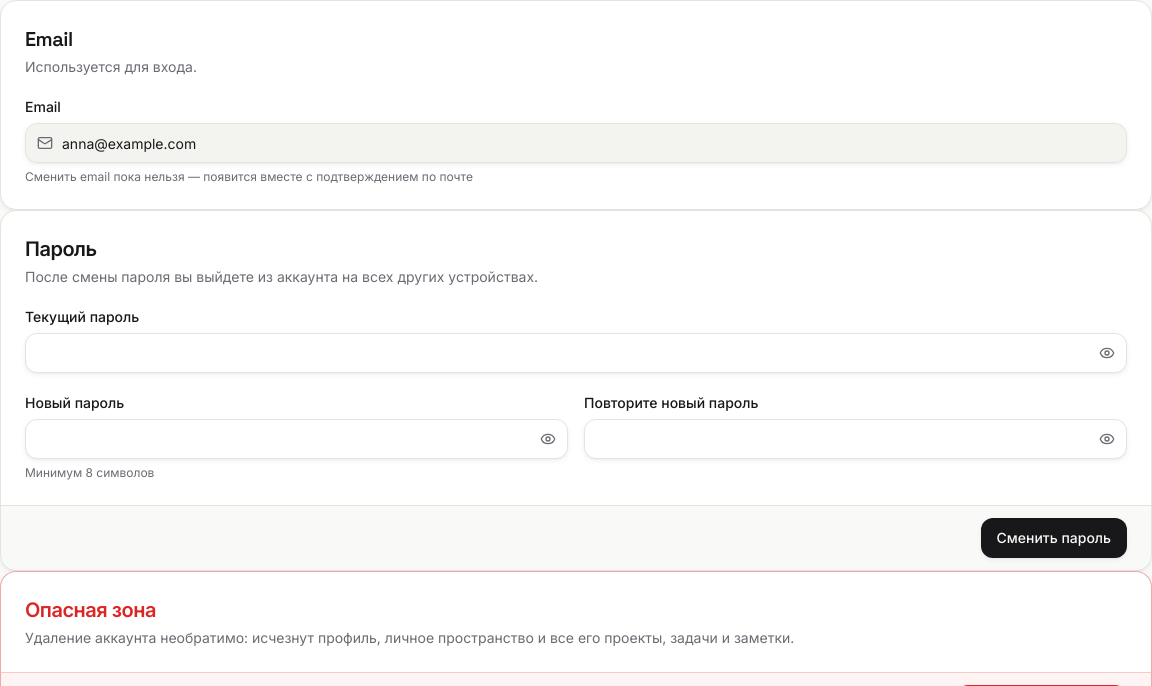
Test: Настройки → Аккаунт › смена пароля › неверный текущий пароль — ошибка под этим полем
The image size is (1152, 686).
Type "not-mine" into the password field labelled "Текущий пароль" at {"x": 576, "y": 353}, box [25,333,1127,373]
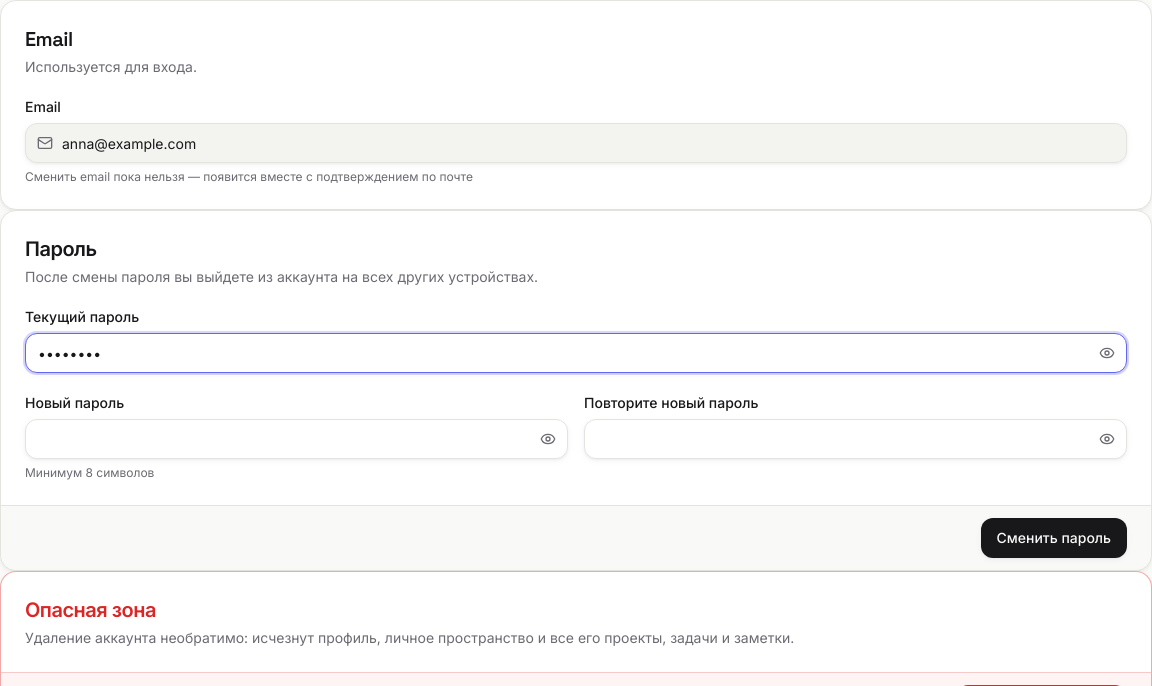
Type "new-password-1" into the password field labelled "Новый пароль" at {"x": 296, "y": 439}, box [25,419,568,459]
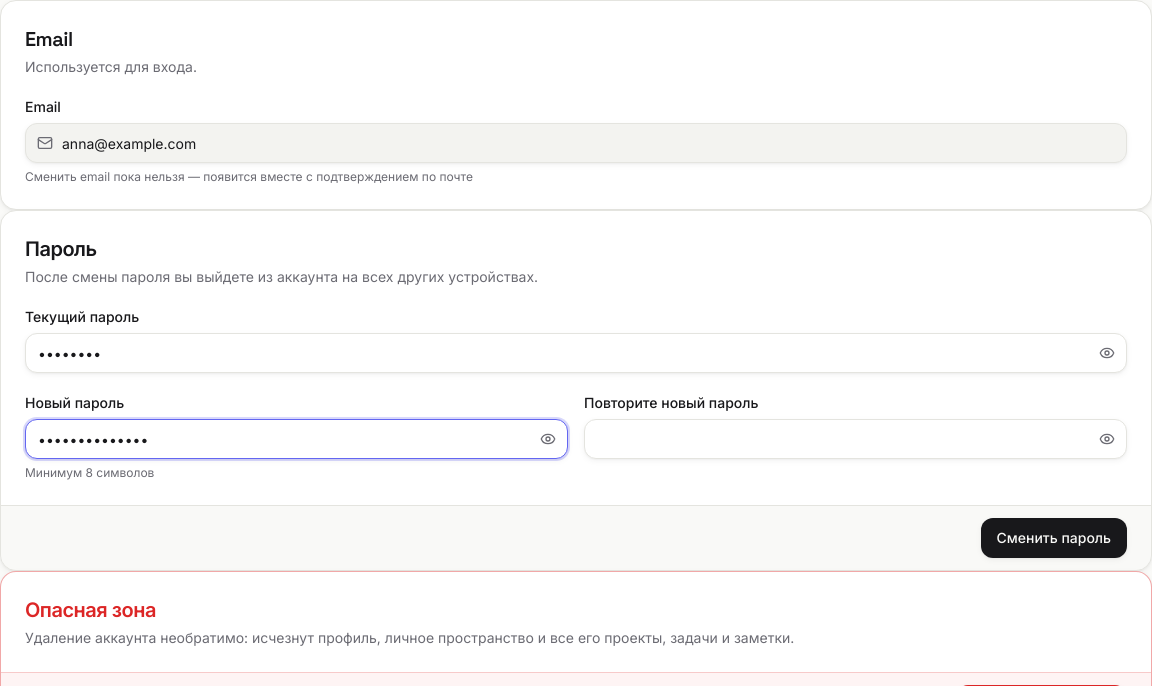
Type "new-password-1" into the password field labelled "Повторите новый пароль" at {"x": 856, "y": 439}, box [584,419,1127,459]
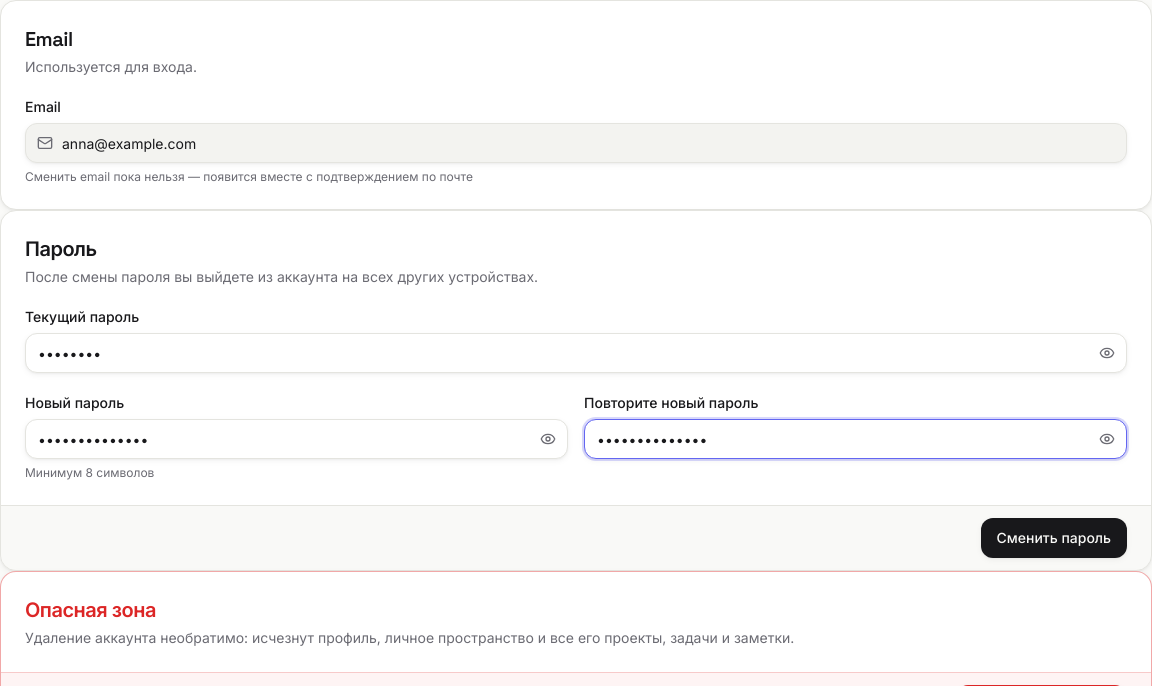
Click the button "Сменить пароль" at {"x": 1054, "y": 538}, box [980,518,1127,558]
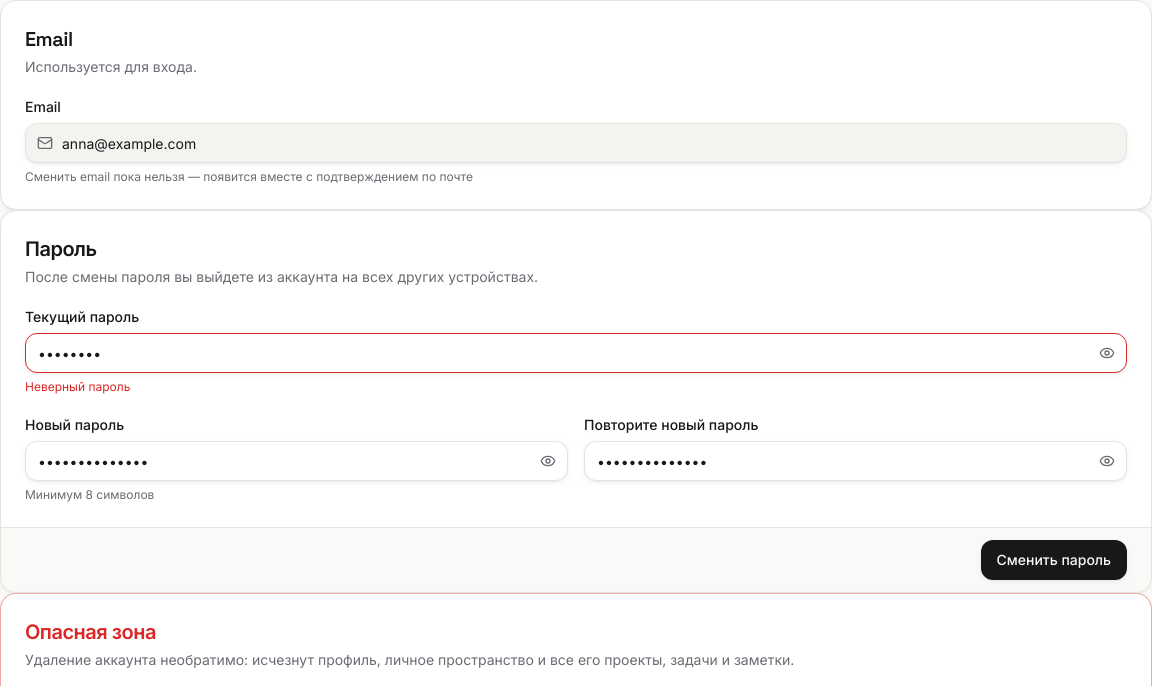
Now the text "Неверный пароль" is shown, box [25,379,130,394]
